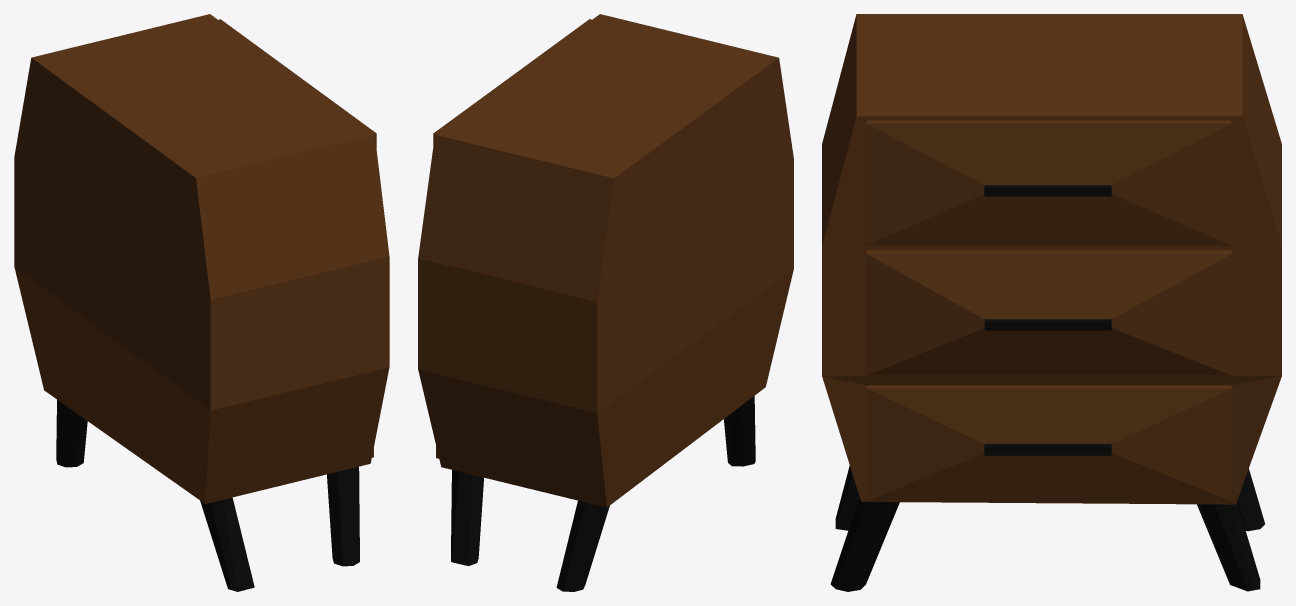
Rendered from mesaCabeceira.fbx.
3 views of the same model, side by side, from view 1: azimuth 30°, elevation 25°; view 2: azimuth 150°, elevation 25°; view 3: azimuth 270°, elevation 25° (orthographic). The views are drawn at different scales.
Visible parts, largest first — view 1: Cube; view 2: Cube; view 3: Cube.
Boxes of the visible parts, x1=… form: Cube: x1=14, y1=14, x2=389, y2=591; Cube: x1=418, y1=14, x2=793, y2=591; Cube: x1=822, y1=14, x2=1281, y2=591.
Bounding box in the file's own units: 284 × 550 × 471.
